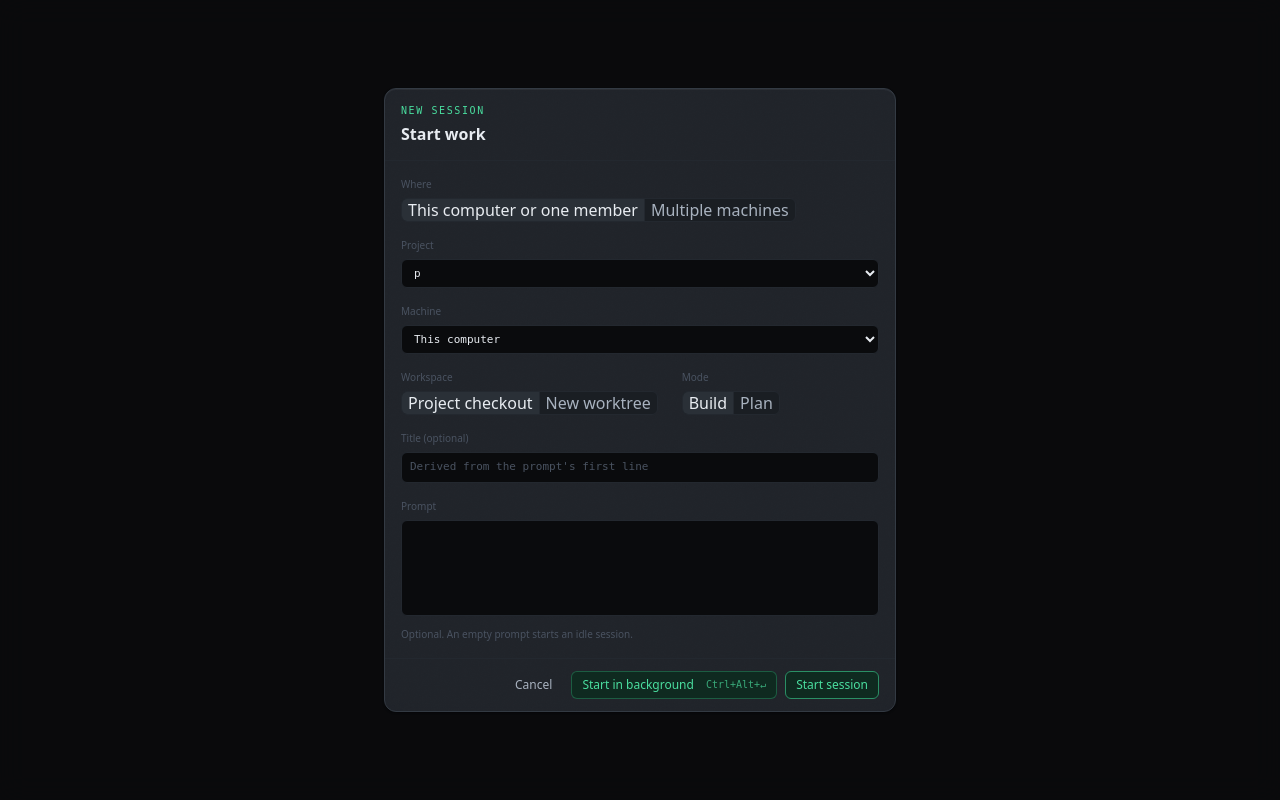
NewSessionDialog (issue #900) › disables Project checkout once one machine runs more than one copy
Click the button "Multiple machines": (720, 210) [645,199,795,221]
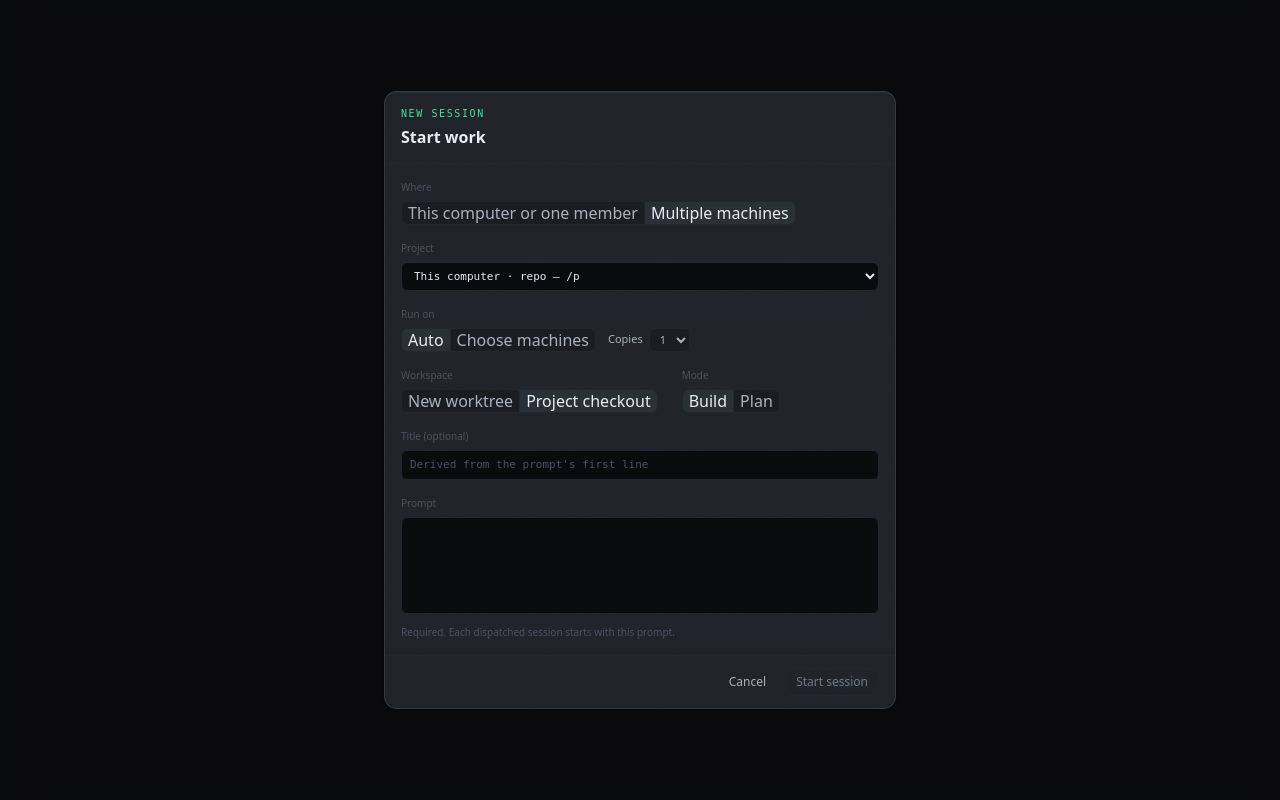
Now the button "Choose machines" is shown
Click the button "Choose machines": (523, 340) [451,329,595,351]
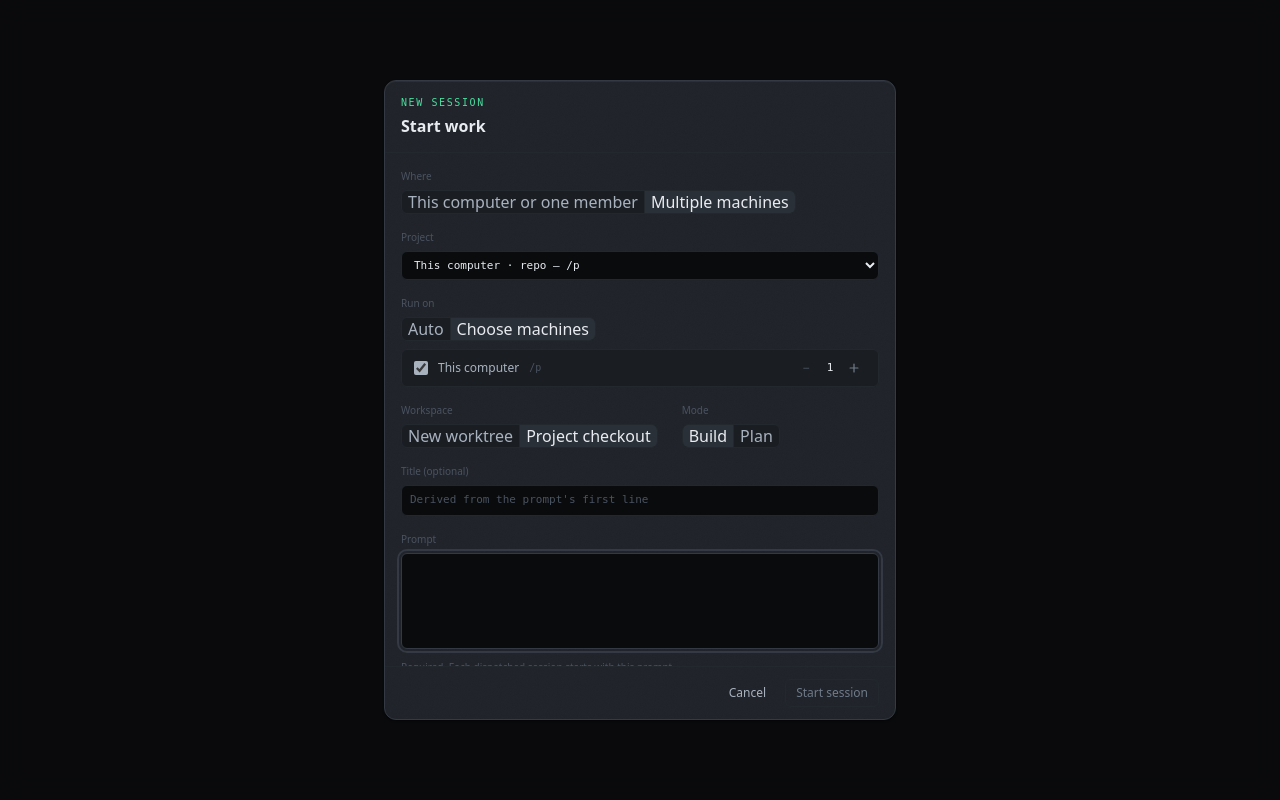
Expected: the button "Project checkout" is enabled, [520,425,657,447]
Click the button named "One more copy on This computer": (854, 368) [842,356,866,380]
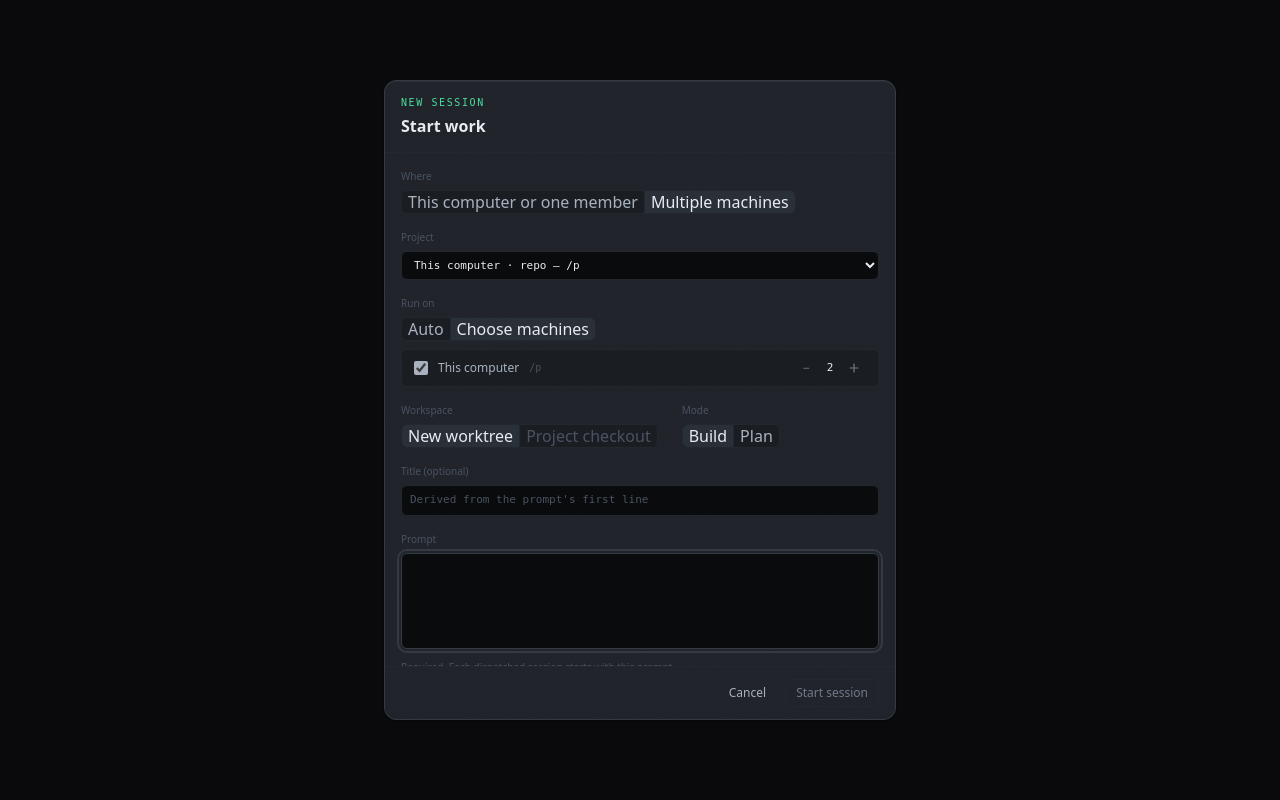
Now the button "Project checkout" is disabled, box [520,425,657,447]
